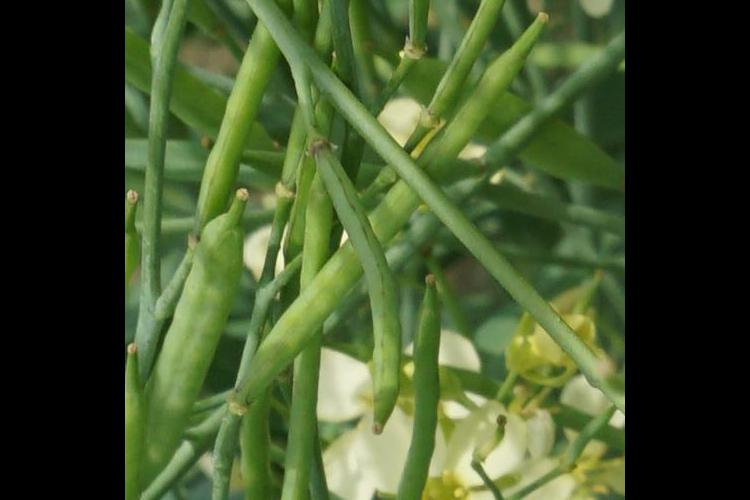pod: (313, 136, 406, 452), (163, 176, 249, 468), (407, 1, 539, 183), (324, 158, 409, 433), (398, 256, 457, 500), (266, 1, 330, 140), (130, 339, 163, 500), (130, 181, 155, 289)
white: (317, 313, 493, 498), (413, 377, 598, 500)
